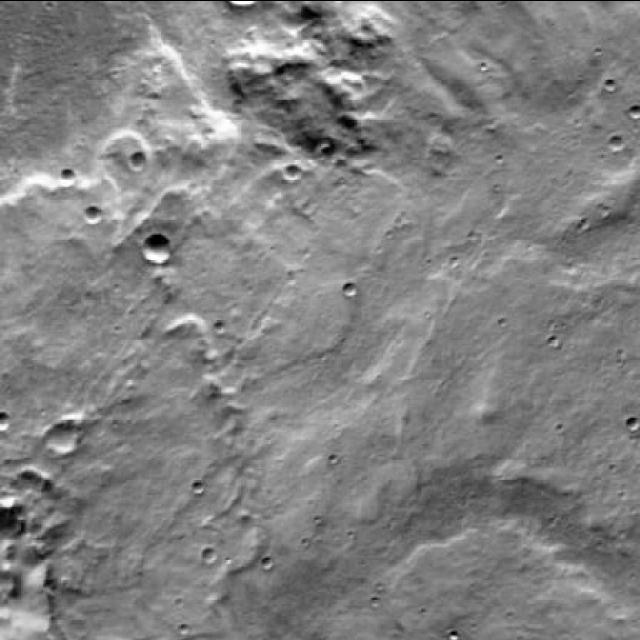crater: (47, 422, 81, 456), (140, 230, 171, 262), (127, 150, 145, 168), (284, 164, 301, 182), (83, 205, 100, 222), (61, 165, 77, 181)
